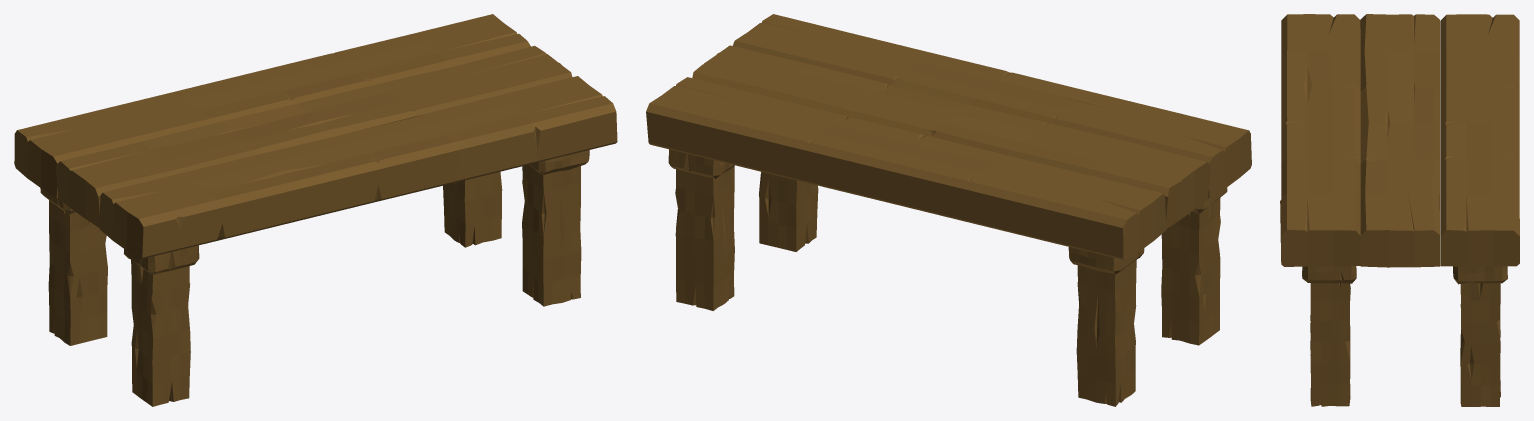
Rendered from Table_Wood.fbx.
The picture shows the model from 3 angles, left to right: view 1: azimuth 30°, elevation 25°; view 2: azimuth 150°, elevation 25°; view 3: azimuth 270°, elevation 25°; orthographic projection. The views are drawn at different scales.
Visible parts, largest first — view 1: Table; view 2: Table; view 3: Table.
Part boxes in pixels (box(x1,y1,x2,y2)): Table: box(14, 14, 617, 406); Table: box(646, 14, 1251, 406); Table: box(1280, 14, 1519, 406).
Bounding box in the file's own units: 300 × 120 × 140.
